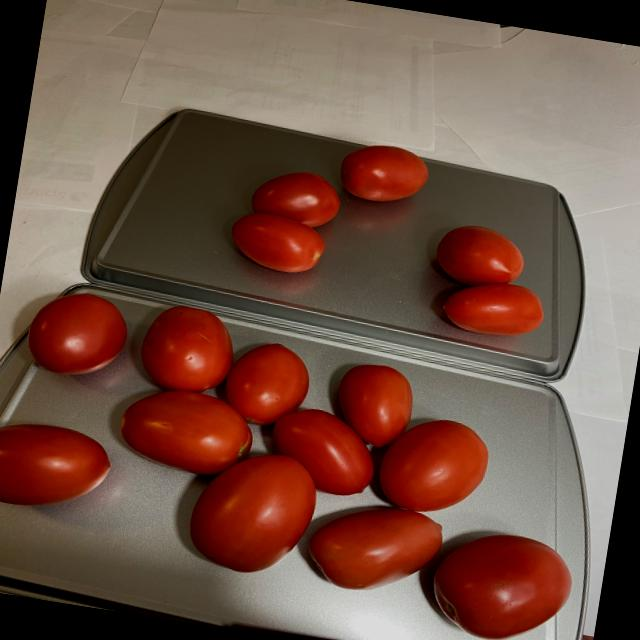tomato: (0, 282, 610, 640), (222, 120, 576, 342)
